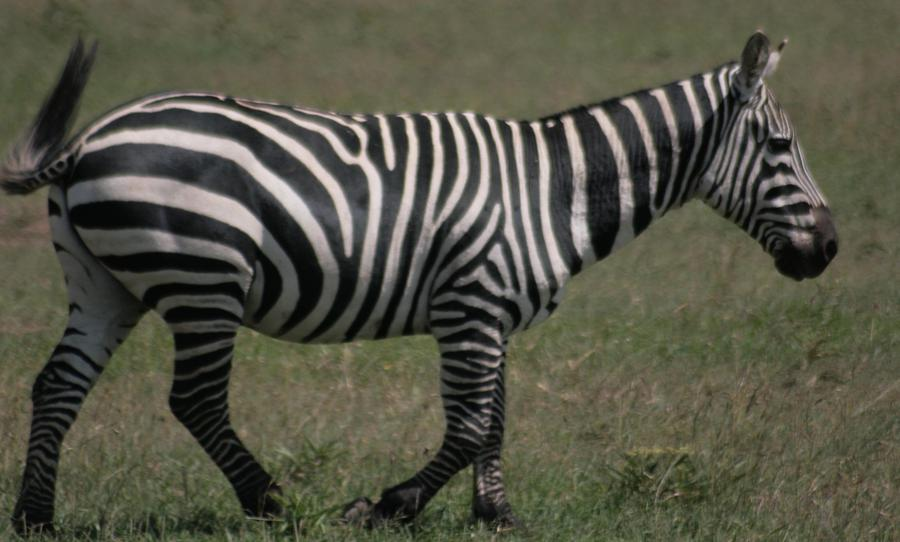zebra_plains: (138, 101, 591, 340)
